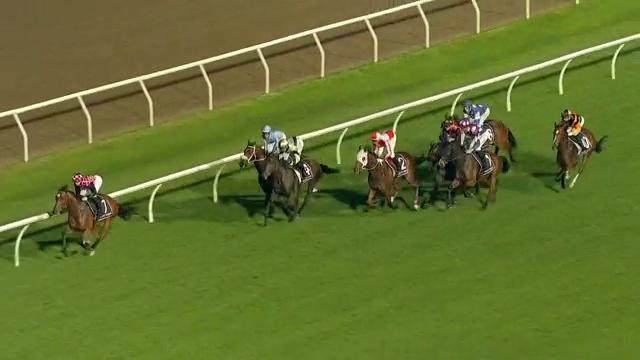racing-horse: (40, 159, 150, 264), (210, 108, 289, 218), (260, 130, 337, 231), (345, 126, 426, 222), (547, 100, 619, 203), (440, 120, 513, 212), (413, 97, 461, 206), (443, 89, 527, 150)
